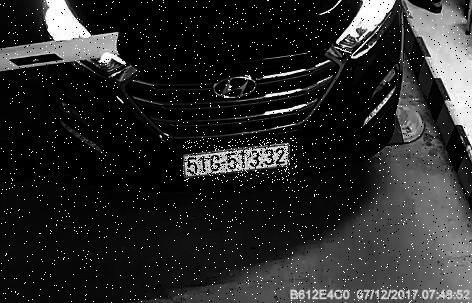License-plate: (185, 140, 299, 183)
